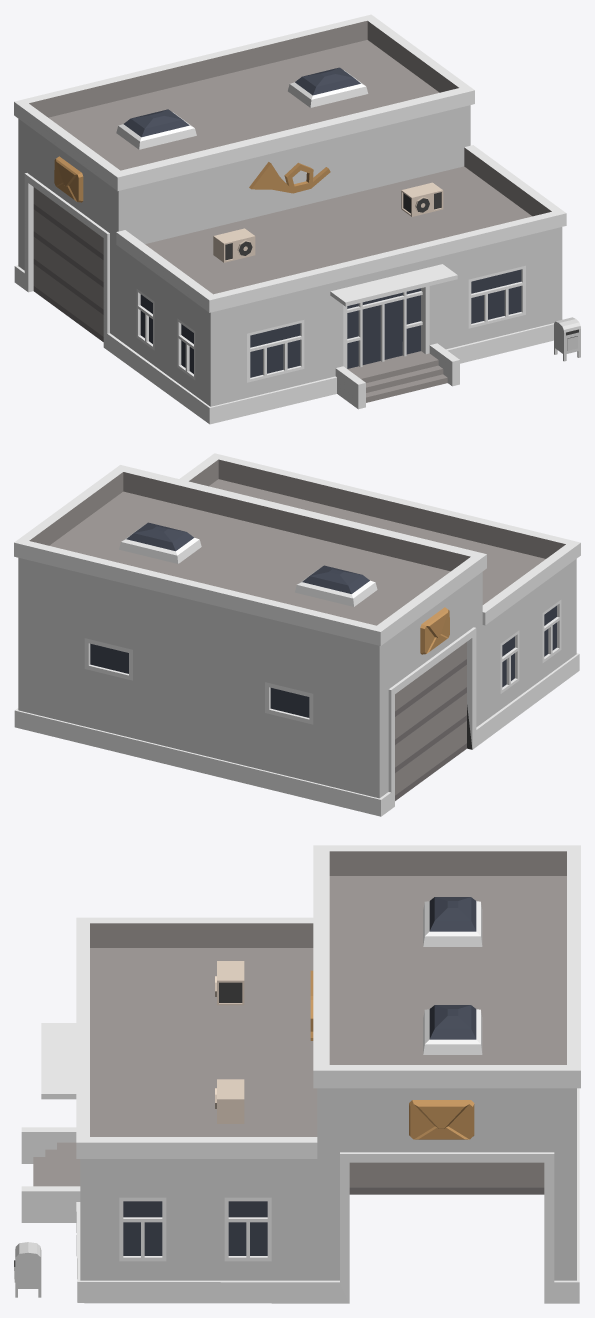
The model's file is building-post.fbx.
The picture shows the model from 3 angles, top to bottom: view 1: azimuth 30°, elevation 25°; view 2: azimuth 150°, elevation 25°; view 3: azimuth 270°, elevation 25°; orthographic projection. The views are drawn at different scales.
Parts seen in each view (by area): view 1: building-post; view 2: building-post; view 3: building-post.
Boxes of the visible parts, x1=… form: building-post: x1=14, y1=14, x2=580, y2=424; building-post: x1=14, y1=453, x2=580, y2=816; building-post: x1=14, y1=845, x2=580, y2=1303.
Bounding box in the file's own units: 13.92 × 6.6 × 14.55.
